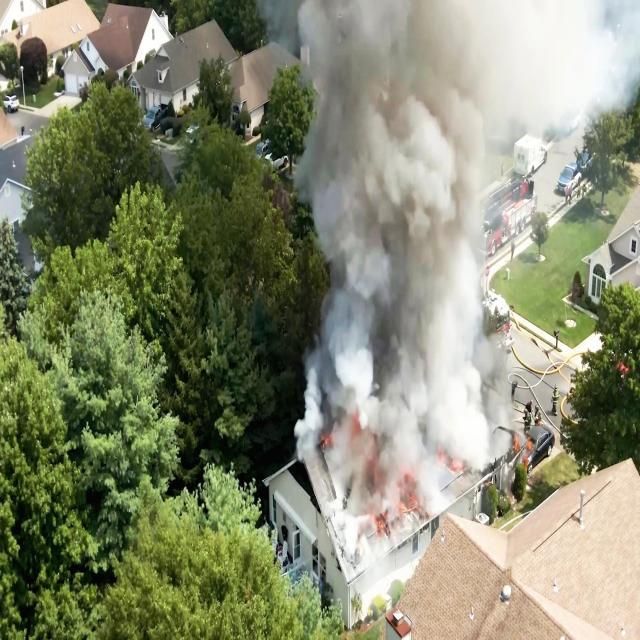Fire: (313, 419, 432, 544), (434, 420, 474, 480), (504, 426, 542, 478)
Smoke: (313, 0, 640, 237), (304, 234, 487, 418)
